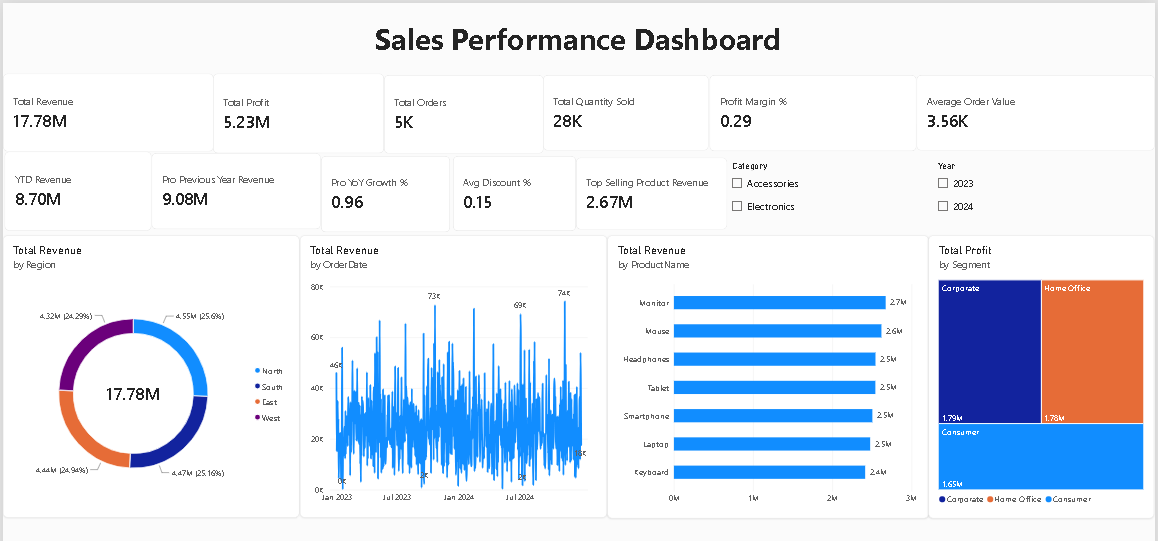

The page's visual inventory and layout, read from the dashboard file:
{"tool":"powerbi","page":{"name":"Page 1","canvas":[1920,1080],"ordinal":0},"visuals":[{"type":"cardVisual","fields":{"Data":["sales_data.Total Revenue"]},"box":[0,117.5,351.2,130],"z":0},{"type":"donutChart","fields":{"Category":["sales_data.Region"],"Y":["sales_data.Total Revenue"]},"box":[0,388,494,470],"z":1000},{"type":"cardVisual","fields":{"Data":["sales_data.Total Profit"]},"box":[350,117.5,285,133.8],"z":2000},{"type":"cardVisual","fields":{"Data":["sales_data.Total Orders"]},"box":[635,120,266.2,131.2],"z":3000},{"type":"cardVisual","fields":{"Data":["sales_data.Total Quantity Sold"]},"box":[900,121.1,276.7,126.7],"z":4000},{"type":"cardVisual","fields":{"Data":["sales_data.Profit Margin %"]},"box":[1177.8,120,345.6,127.8],"z":5000},{"type":"cardVisual","fields":{"Data":["sales_data.Average Order Value"]},"box":[1523.3,121.1,397.8,126.7],"z":6000},{"type":"cardVisual","fields":{"Data":["sales_data.YTD Revenue"]},"box":[2.5,247.5,245,132.5],"z":7000},{"type":"cardVisual","fields":{"Data":["sales_data.Pro Previous Year Revenue"]},"box":[247.5,250,282.5,127.5],"z":8000},{"type":"cardVisual","fields":{"Data":["sales_data.Pro YoY Growth %"]},"box":[530,255,215,127.5],"z":9000},{"type":"cardVisual","fields":{"Data":["sales_data.Top Selling Product Revenue"]},"box":[955,257.5,252.5,120],"z":10000},{"type":"cardVisual","fields":{"Data":["sales_data.Avg Discount %"]},"box":[750,255,205,125],"z":11000},{"type":"lineChart","fields":{"Category":["sales_data.OrderDate.Variation.Date Hierarchy.Year"],"Y":["sales_data.Total Revenue"]},"box":[494,388,512,470],"z":12000},{"type":"clusteredBarChart","fields":{"Category":["sales_data.ProductName"],"Y":["sales_data.Total Revenue"]},"box":[1007.5,387.5,535,471.2],"z":13000},{"type":"treemap","fields":{"Group":["sales_data.Segment"],"Values":["sales_data.Total Profit"]},"box":[1542.5,387.4,375.9,471.3],"z":14000},{"type":"textbox","box":[0,26.5,1917.6,88.2],"z":15000},{"type":"slicer","fields":{"Values":["sales_data.Category"]},"box":[1207.8,262.2,334.4,115.6],"z":16000},{"type":"slicer","fields":{"Values":["Calendar.Year"]},"box":[1548.9,262.2,362.2,115.6],"z":17000}]}

Visuals, with their boxes on the page's 1920x1080 design canvas (x1, y1, x2, y2). These are canvas units, not pixel positions in the 1158x541 screenshot, which may show the page scaled, cropped or inside an application window:
cardVisual - sales_data.Total Revenue: 0/118/351/248
donutChart - sales_data.Region x sales_data.Total Revenue: 0/388/494/858
cardVisual - sales_data.Total Profit: 350/118/635/251
cardVisual - sales_data.Total Orders: 635/120/901/251
cardVisual - sales_data.Total Quantity Sold: 900/121/1177/248
cardVisual - sales_data.Profit Margin %: 1178/120/1523/248
cardVisual - sales_data.Average Order Value: 1523/121/1921/248
cardVisual - sales_data.YTD Revenue: 2/248/248/380
cardVisual - sales_data.Pro Previous Year Revenue: 248/250/530/378
cardVisual - sales_data.Pro YoY Growth %: 530/255/745/382
cardVisual - sales_data.Top Selling Product Revenue: 955/258/1208/378
cardVisual - sales_data.Avg Discount %: 750/255/955/380
lineChart - sales_data.OrderDate.Variation.Date Hierarchy.Year x sales_data.Total Revenue: 494/388/1006/858
clusteredBarChart - sales_data.ProductName x sales_data.Total Revenue: 1008/388/1542/859
treemap - sales_data.Segment x sales_data.Total Profit: 1542/387/1918/859
textbox: 0/26/1918/115
slicer - sales_data.Category: 1208/262/1542/378
slicer - Calendar.Year: 1549/262/1911/378
